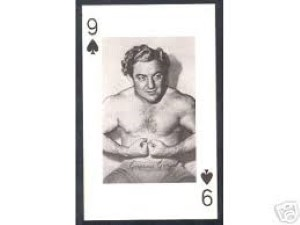NineOfSpades: (76, 1, 217, 221)
